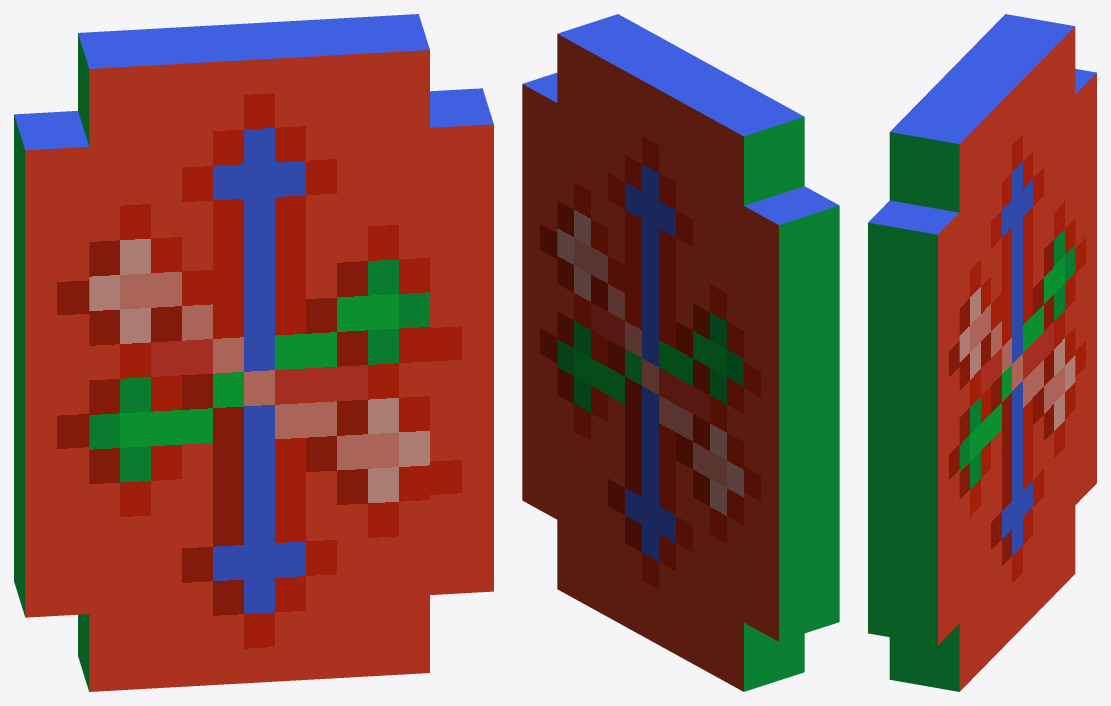
The model's file is axisToken-1.fbx.
3 renders of one model, left to right at view 1: azimuth 30°, elevation 25°; view 2: azimuth 150°, elevation 25°; view 3: azimuth 270°, elevation 25°, orthographic. The views are drawn at different scales.
Visible parts, largest first — view 1: cube, cube_1, cube_2; view 2: cube, cube_1, cube_2; view 3: cube, cube_2, cube_1.
Part boxes in pixels (x1,y1,x2,y2): cube: (78, 14, 429, 691); cube_1: (14, 111, 89, 617); cube_2: (430, 88, 493, 594); cube: (557, 14, 804, 691); cube_1: (744, 186, 839, 641); cube_2: (522, 72, 557, 519); cube: (889, 14, 1075, 691); cube_2: (868, 200, 959, 645); cube_1: (1075, 69, 1096, 504).
Size of the model in its own units: 34.15 by 50 by 18.93.
